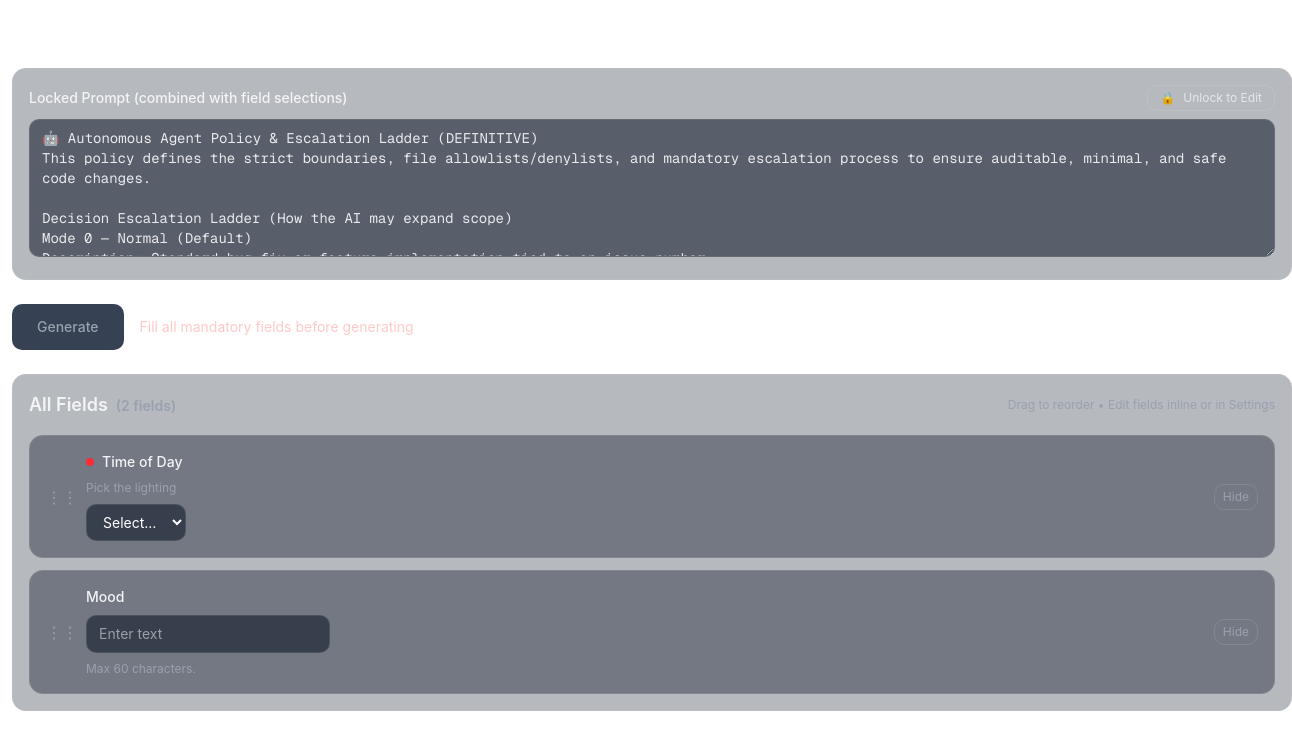
Test: PromptCreatorTab › disables generation until mandatory fields are selected
The image size is (1292, 732).
Expected: the text "Fill all mandatory fields before generating" is shown, x1=140 y1=317 x2=414 y2=337
Expected: the button "Generate" is disabled, x1=12 y1=304 x2=124 y2=350
Select "Dusk" in the dropdown labelled "Time of Day". click: (136, 522)
box: x1=86 y1=504 x2=186 y2=541
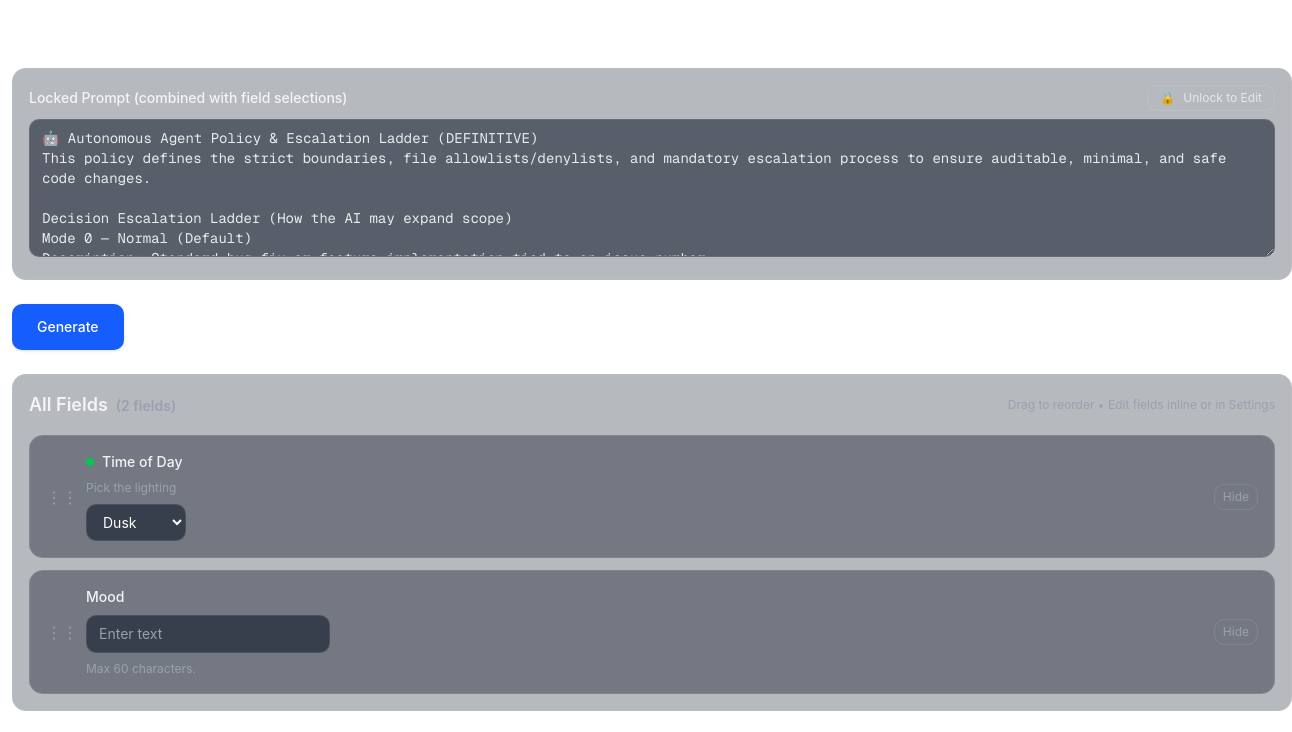
Expected: the text "Pick the lighting" is shown, x1=86 y1=480 x2=186 y2=496
Result: the text "Fill all mandatory fields before generating" is gone
Result: the button "Generate" is enabled at x1=12 y1=304 x2=124 y2=350
